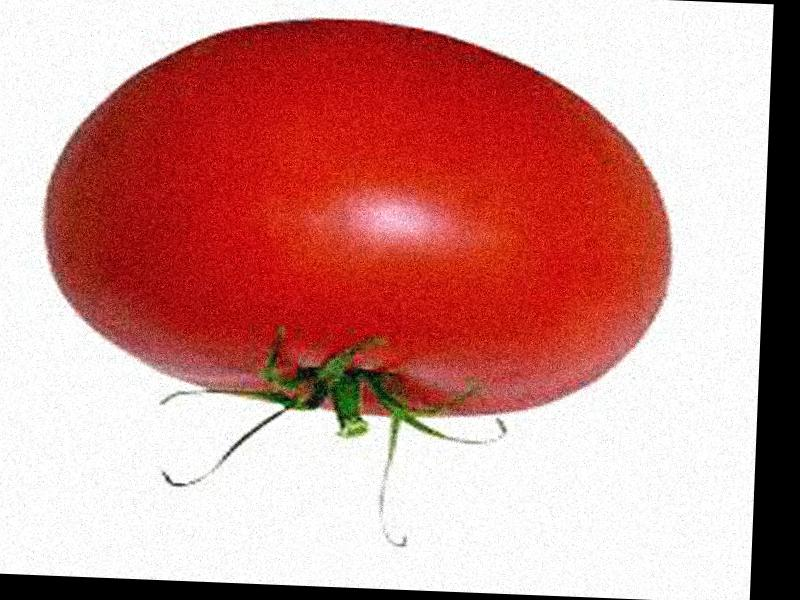Tomato: (38, 10, 684, 429)
